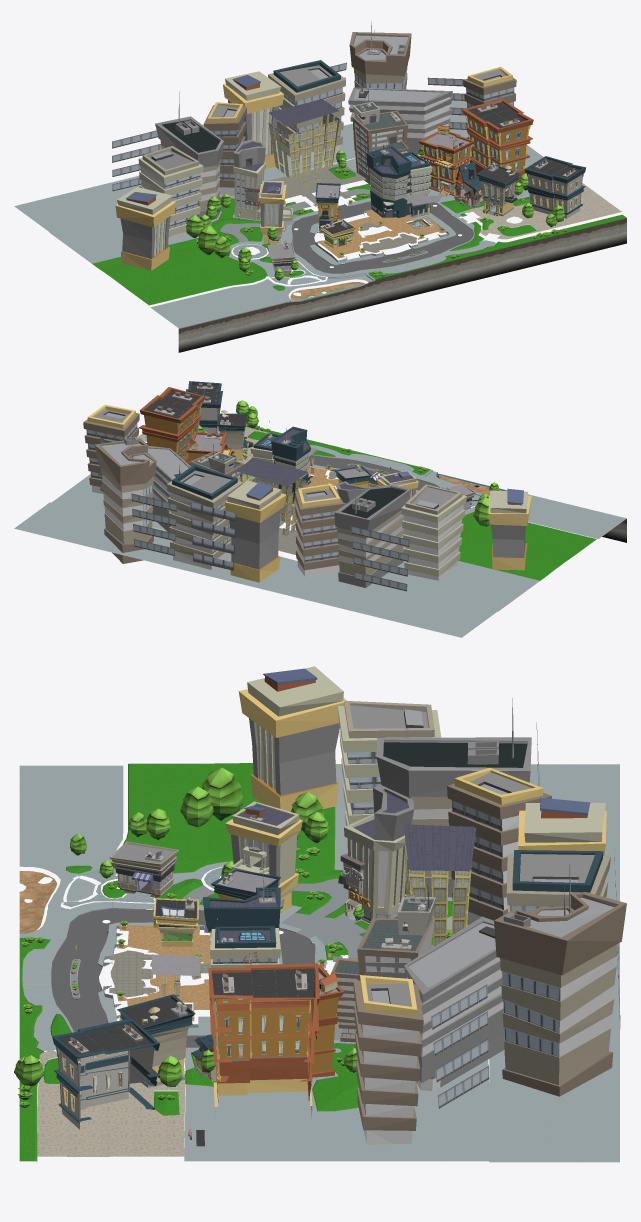
File: Bulletin_2.fbx
The picture shows the model from 3 angles, top to bottom: view 1: azimuth 30°, elevation 25°; view 2: azimuth 150°, elevation 25°; view 3: azimuth 270°, elevation 25°; orthographic projection. The views are drawn at different scales.
Parts seen in each view (by area): view 1: Bulletin_Tex33, Bulletin_Tex13, Bulletin_Tex24, Bulletin_Tex20, Bulletin_Tex7, Bulletin_Tex8, Bulletin_Tex19, Bulletin_Tex14, Bulletin_Tex4, Bulletin_Tex32, Bulletin_Tex15, Bulletin_Tex30 (+6 smaller); view 2: Bulletin_Tex33, Bulletin_Tex13, Bulletin_Tex14, Bulletin_Tex7, Bulletin_Tex20, Bulletin_Tex8, Bulletin_Tex4, Bulletin_Tex32, Bulletin_Tex15, Bulletin_Tex19, Bulletin_Tex29, Bulletin_Tex24 (+1 smaller); view 3: Bulletin_Tex33, Bulletin_Tex13, Bulletin_Tex7, Bulletin_Tex20, Bulletin_Tex30, Bulletin_Tex4, Bulletin_Tex8, Bulletin_Tex19, Bulletin_Tex14, Bulletin_Tex15, Bulletin_Tex17, Bulletin_Tex16 (+6 smaller).
Part boxes in pixels (x1,y1,x2,y2): Bulletin_Tex33: [115, 21, 516, 270]; Bulletin_Tex13: [14, 100, 543, 328]; Bulletin_Tex24: [178, 218, 626, 352]; Bulletin_Tex20: [92, 166, 626, 305]; Bulletin_Tex7: [320, 99, 585, 248]; Bulletin_Tex8: [268, 125, 483, 273]; Bulletin_Tex19: [291, 201, 473, 273]; Bulletin_Tex14: [112, 62, 466, 191]; Bulletin_Tex4: [186, 146, 564, 280]; Bulletin_Tex32: [268, 113, 339, 187]; Bulletin_Tex15: [352, 89, 408, 184]; Bulletin_Tex30: [466, 183, 621, 239]; Bulletin_Tex33: [83, 404, 531, 587]; Bulletin_Tex13: [14, 445, 626, 637]; Bulletin_Tex14: [100, 436, 409, 591]; Bulletin_Tex7: [139, 381, 385, 487]; Bulletin_Tex20: [245, 426, 596, 580]; Bulletin_Tex8: [186, 422, 475, 509]; Bulletin_Tex4: [198, 400, 499, 537]; Bulletin_Tex32: [237, 473, 308, 536]; Bulletin_Tex15: [190, 444, 244, 481]; Bulletin_Tex19: [252, 455, 438, 519]; Bulletin_Tex29: [278, 471, 337, 554]; Bulletin_Tex24: [246, 431, 626, 542]; Bulletin_Tex33: [203, 666, 626, 1144]; Bulletin_Tex13: [19, 764, 619, 1162]; Bulletin_Tex7: [52, 896, 319, 1129]; Bulletin_Tex20: [19, 763, 452, 1161]; Bulletin_Tex30: [37, 1049, 185, 1156]; Bulletin_Tex4: [14, 767, 364, 1087]; Bulletin_Tex8: [109, 841, 343, 1080]; Bulletin_Tex19: [51, 909, 327, 1047]; Bulletin_Tex14: [403, 722, 620, 1108]; Bulletin_Tex15: [331, 883, 435, 1042]; Bulletin_Tex17: [70, 878, 366, 1040]; Bulletin_Tex16: [117, 925, 211, 1021].
Bounding box in the file's own units: 524 × 160 × 341.
Materials: 33 (33 with a texture image).
